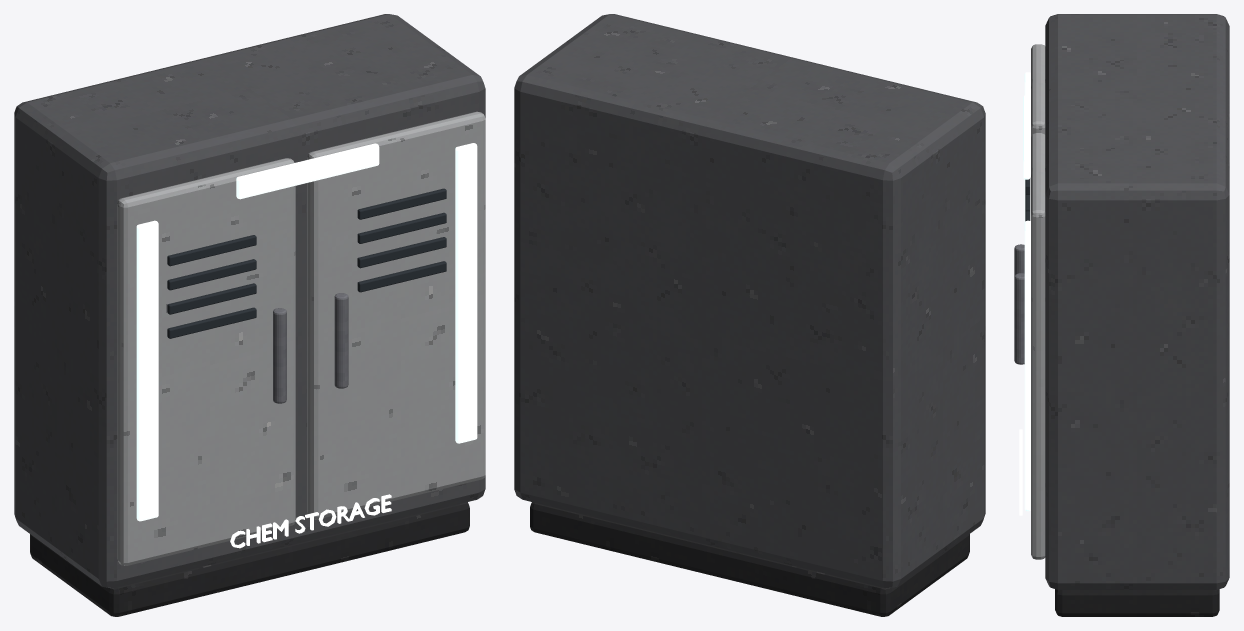
File: machine_storage_locker.glb
3 views of the same model, side by side, from view 1: azimuth 30°, elevation 25°; view 2: azimuth 150°, elevation 25°; view 3: azimuth 270°, elevation 25° (orthographic). The views are drawn at different scales.
Visible parts, largest first — view 1: MCH_Locker__Locker_Case, MCH_Locker__Door_Left, MCH_Locker__Door_Right, MCH_Locker__Plinth, MCH_Locker__Door_Left_Accent, MCH_Locker__Door_Right_Accent, MCH_Locker__Status_Strip, MCH_Locker__Title_Text, MCH_Locker__Handle_Right, MCH_Locker__Handle_Left, MCH_Locker__Door_Right_Vent_4, MCH_Locker__Door_Left_Vent_1 (+6 smaller); view 2: MCH_Locker__Locker_Case, MCH_Locker__Plinth; view 3: MCH_Locker__Locker_Case, MCH_Locker__Door_Right, MCH_Locker__Plinth, MCH_Locker__Door_Right_Accent, MCH_Locker__Door_Left, MCH_Locker__Handle_Right, MCH_Locker__Status_Strip, MCH_Locker__Door_Left_Accent, MCH_Locker__Title_Text, MCH_Locker__Handle_Left.
Boxes of the visible parts, x1,y1,x2,y2 form: MCH_Locker__Locker_Case: [14, 14, 485, 588]; MCH_Locker__Door_Left: [117, 158, 295, 565]; MCH_Locker__Door_Right: [307, 111, 485, 519]; MCH_Locker__Plinth: [30, 502, 469, 616]; MCH_Locker__Door_Left_Accent: [136, 220, 158, 521]; MCH_Locker__Door_Right_Accent: [455, 143, 477, 443]; MCH_Locker__Status_Strip: [236, 143, 379, 199]; MCH_Locker__Title_Text: [230, 494, 391, 548]; MCH_Locker__Handle_Right: [334, 293, 348, 388]; MCH_Locker__Handle_Left: [273, 308, 286, 403]; MCH_Locker__Door_Right_Vent_4: [357, 261, 446, 292]; MCH_Locker__Door_Left_Vent_1: [167, 235, 256, 266]; MCH_Locker__Locker_Case: [514, 14, 985, 588]; MCH_Locker__Plinth: [530, 502, 969, 616]; MCH_Locker__Locker_Case: [1045, 14, 1229, 589]; MCH_Locker__Door_Right: [1031, 133, 1045, 559]; MCH_Locker__Plinth: [1055, 589, 1219, 616]; MCH_Locker__Door_Right_Accent: [1024, 220, 1030, 511]; MCH_Locker__Door_Left: [1031, 44, 1045, 136]; MCH_Locker__Handle_Right: [1014, 273, 1024, 364]; MCH_Locker__Status_Strip: [1023, 95, 1030, 179]; MCH_Locker__Door_Left_Accent: [1024, 72, 1030, 222]; MCH_Locker__Title_Text: [1019, 429, 1022, 515]; MCH_Locker__Handle_Left: [1014, 244, 1024, 276].
Size of the model in its own units: 1.5 by 1.7 by 0.7586.
7 materials, 4 textured.
